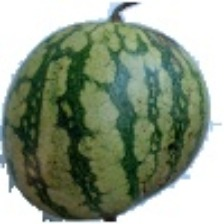watermelon: (47, 28, 217, 175)
